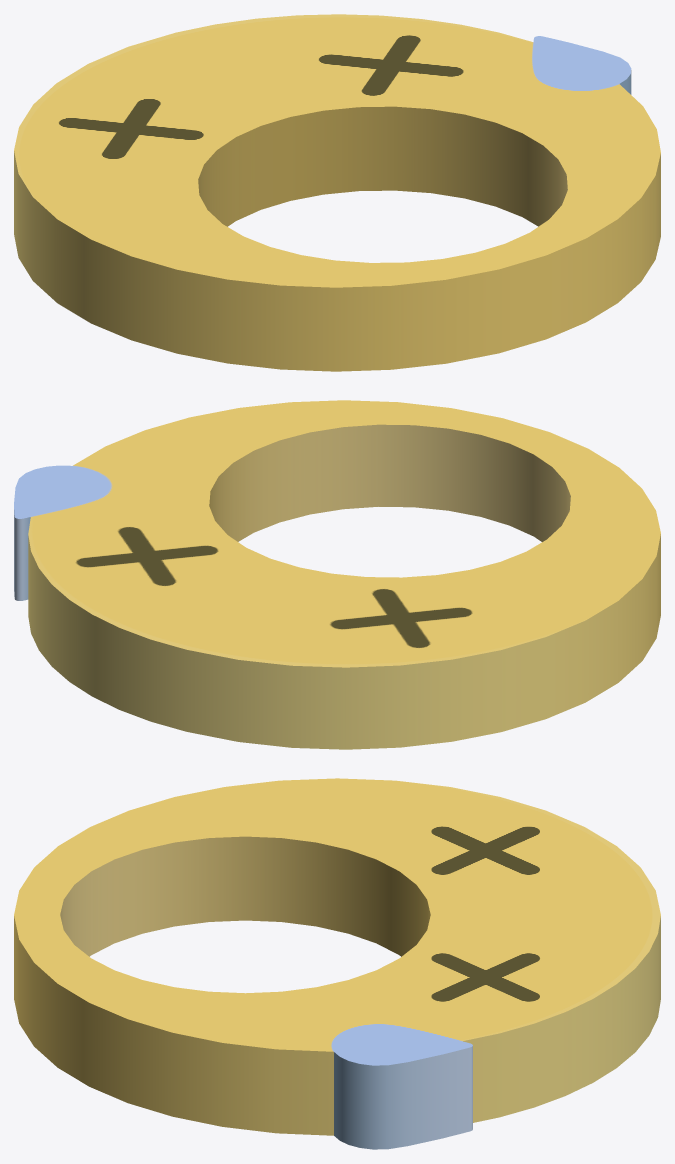
File: Smile.FBX
3 views of the same model, one above another, from view 1: azimuth 30°, elevation 25°; view 2: azimuth 150°, elevation 25°; view 3: azimuth 270°, elevation 25° (orthographic). The views are drawn at different scales.
Parts seen in each view (by area): view 1: Smile; view 2: Smile; view 3: Smile.
Part boxes in pixels (left/top/right/bottom): Smile: left=14, top=14, right=660, bottom=371; Smile: left=14, top=400, right=660, bottom=749; Smile: left=14, top=778, right=660, bottom=1149.
Bounding box in the file's own units: 51.34 × 7 × 48.88.
Materials: 1 (1 with a texture image).
